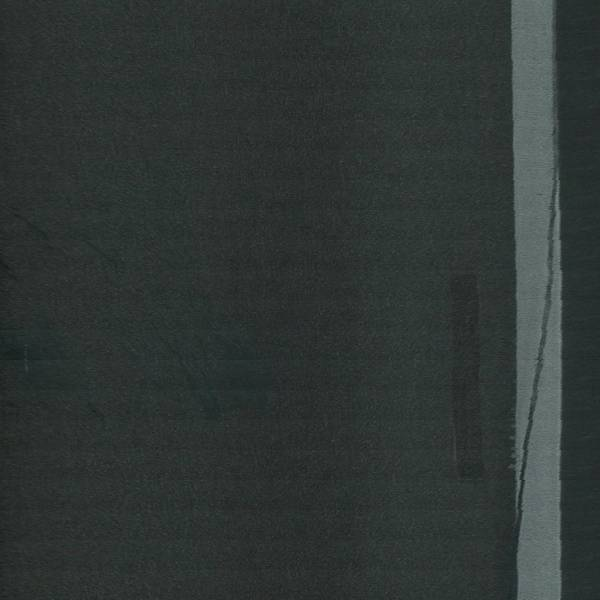road_damage: (147, 316, 230, 438)
